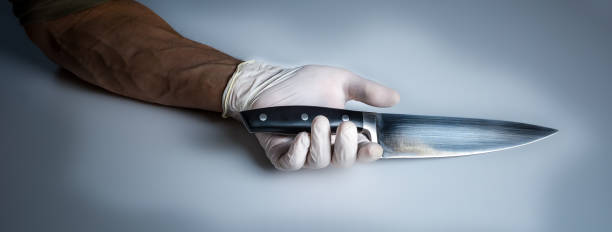knife: (236, 103, 563, 162)
